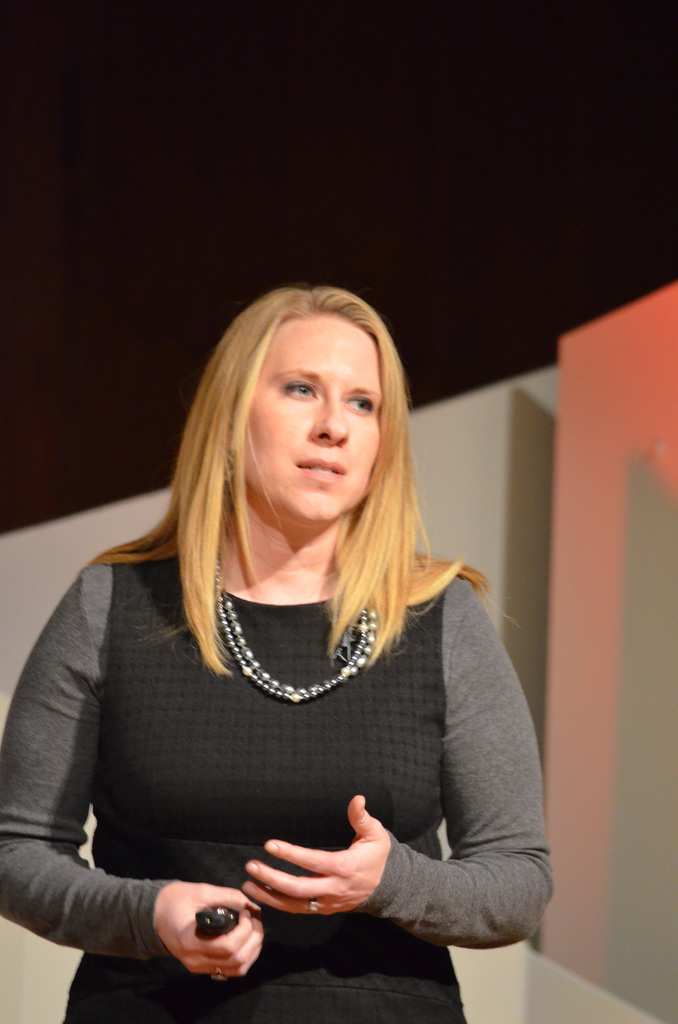Human_hand: (246, 816, 406, 938), (153, 879, 266, 988)
